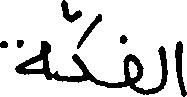X: (0, 35, 49, 84), (73, 5, 99, 89), (123, 30, 142, 96), (175, 36, 186, 96), (160, 41, 166, 95)
